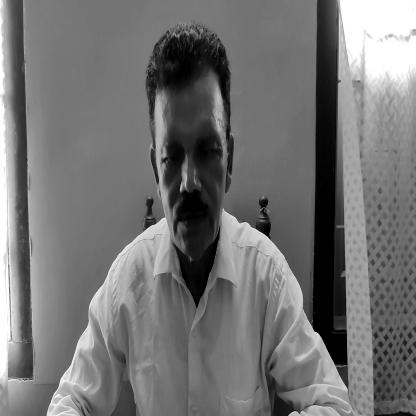Normal: (146, 38, 234, 263)
